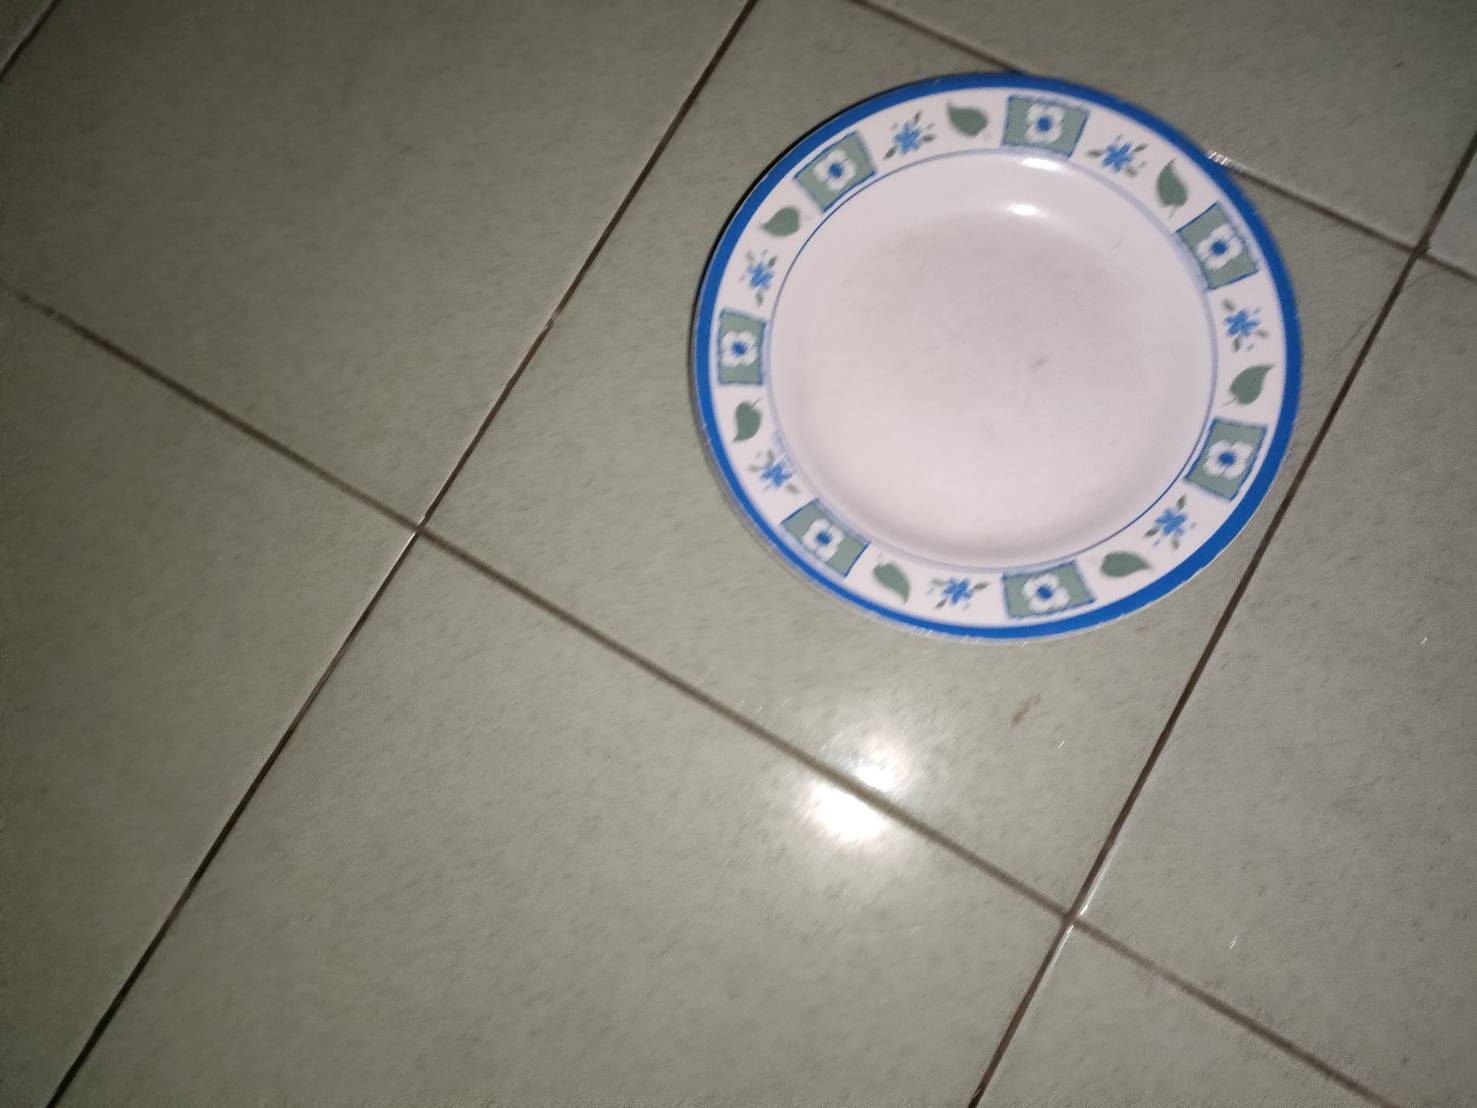piring: (688, 71, 1305, 645)
